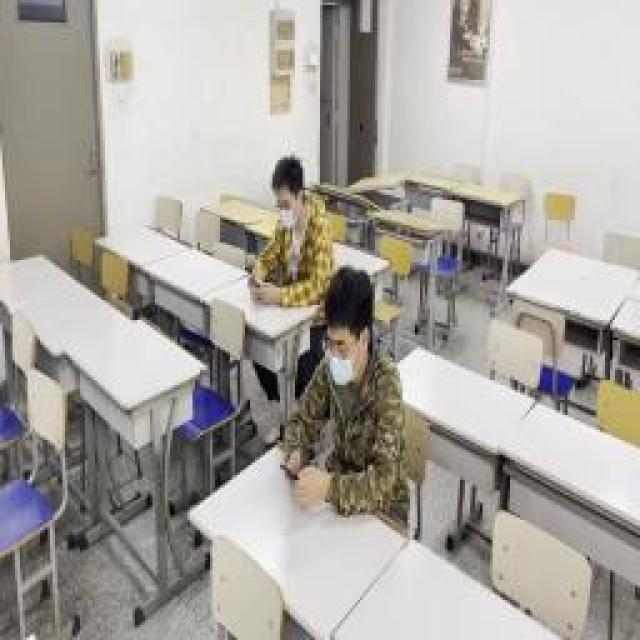phone: (282, 313, 408, 515), (250, 155, 322, 300)
